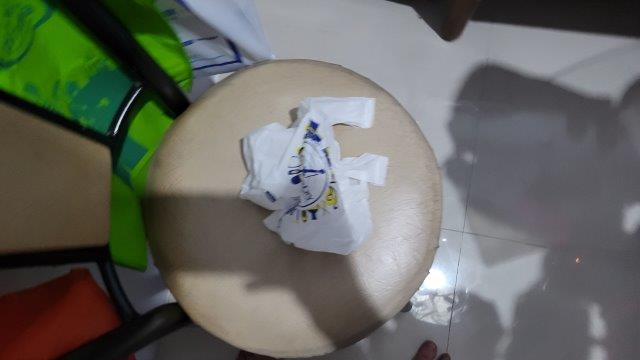plastik: (238, 95, 387, 256)
